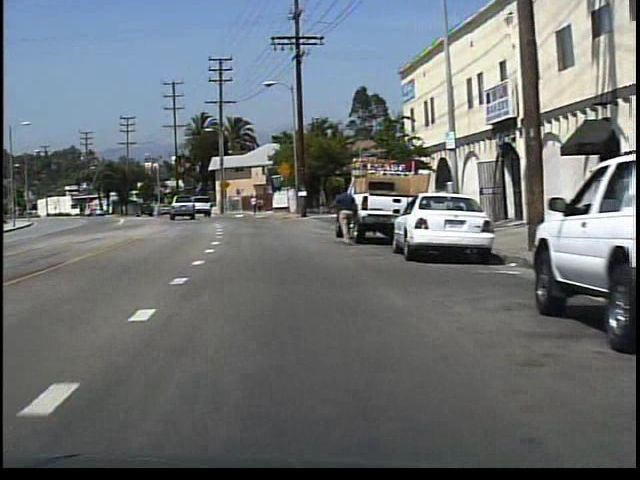person: (331, 184, 359, 248), (256, 197, 267, 215), (249, 195, 258, 217)
